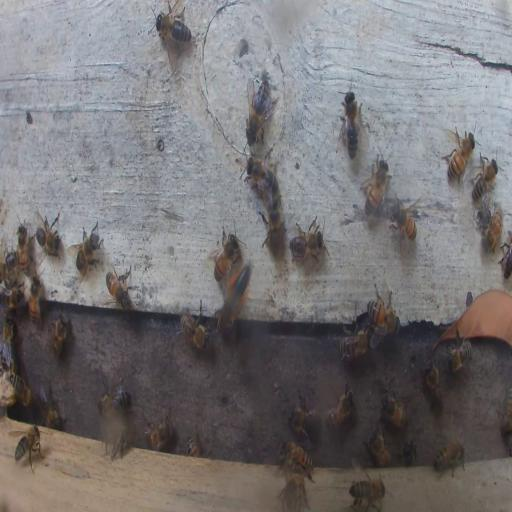nonpollenbee: (70, 220, 105, 280), (339, 87, 366, 158), (245, 77, 274, 143), (443, 127, 477, 183), (156, 2, 192, 53), (361, 152, 390, 214), (242, 154, 279, 200), (470, 151, 499, 206), (212, 224, 240, 280), (260, 194, 285, 254), (388, 195, 418, 244), (14, 424, 44, 472), (325, 383, 355, 431), (33, 211, 63, 258), (348, 474, 386, 511), (289, 219, 322, 261), (179, 306, 210, 350), (97, 376, 130, 416), (366, 296, 398, 336), (289, 398, 320, 437), (276, 442, 314, 473), (366, 423, 392, 468), (433, 440, 466, 475), (379, 388, 407, 429), (339, 327, 370, 363), (105, 268, 131, 309), (144, 412, 172, 450), (281, 473, 309, 511), (423, 359, 442, 410), (484, 204, 503, 254), (104, 429, 134, 458), (50, 314, 69, 359), (445, 342, 473, 372), (15, 222, 32, 271), (9, 367, 32, 403), (28, 272, 42, 326), (498, 389, 510, 443), (500, 226, 512, 278), (1, 284, 24, 309), (2, 315, 16, 354), (186, 432, 206, 457), (42, 404, 61, 429), (3, 251, 18, 280), (402, 441, 416, 467)
pollenbee: (218, 253, 251, 331)
